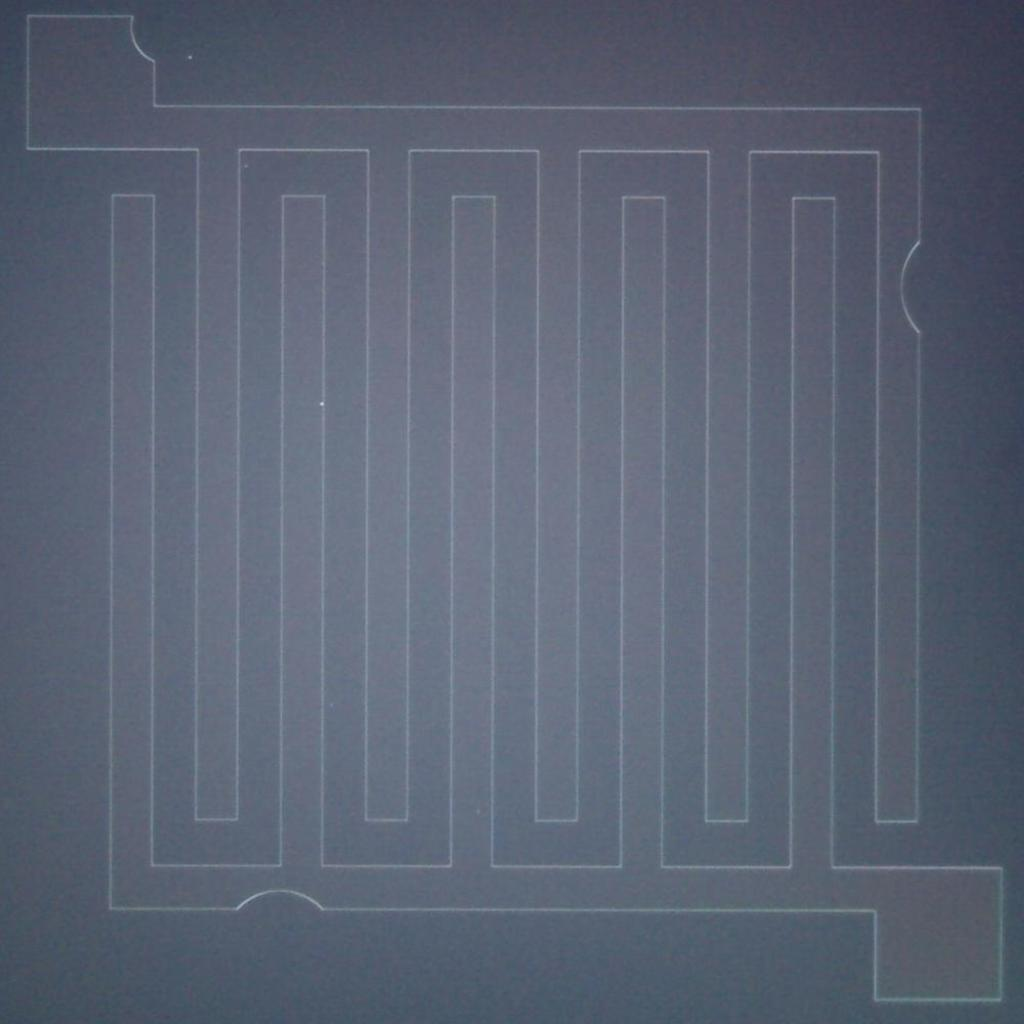curve circuit: (890, 221, 942, 348), (217, 882, 343, 924), (110, 7, 164, 82)
